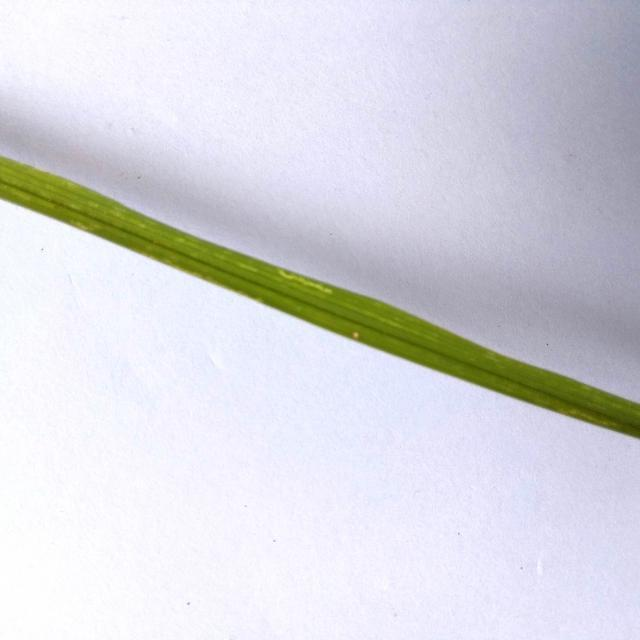Blast: (347, 324, 368, 340)
